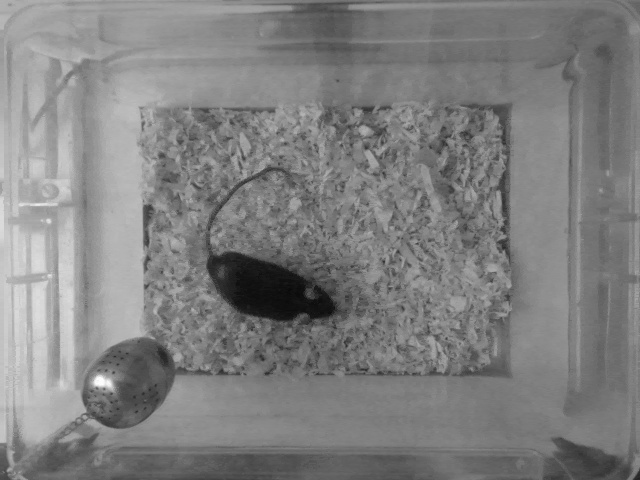mice: (202, 163, 336, 322)
